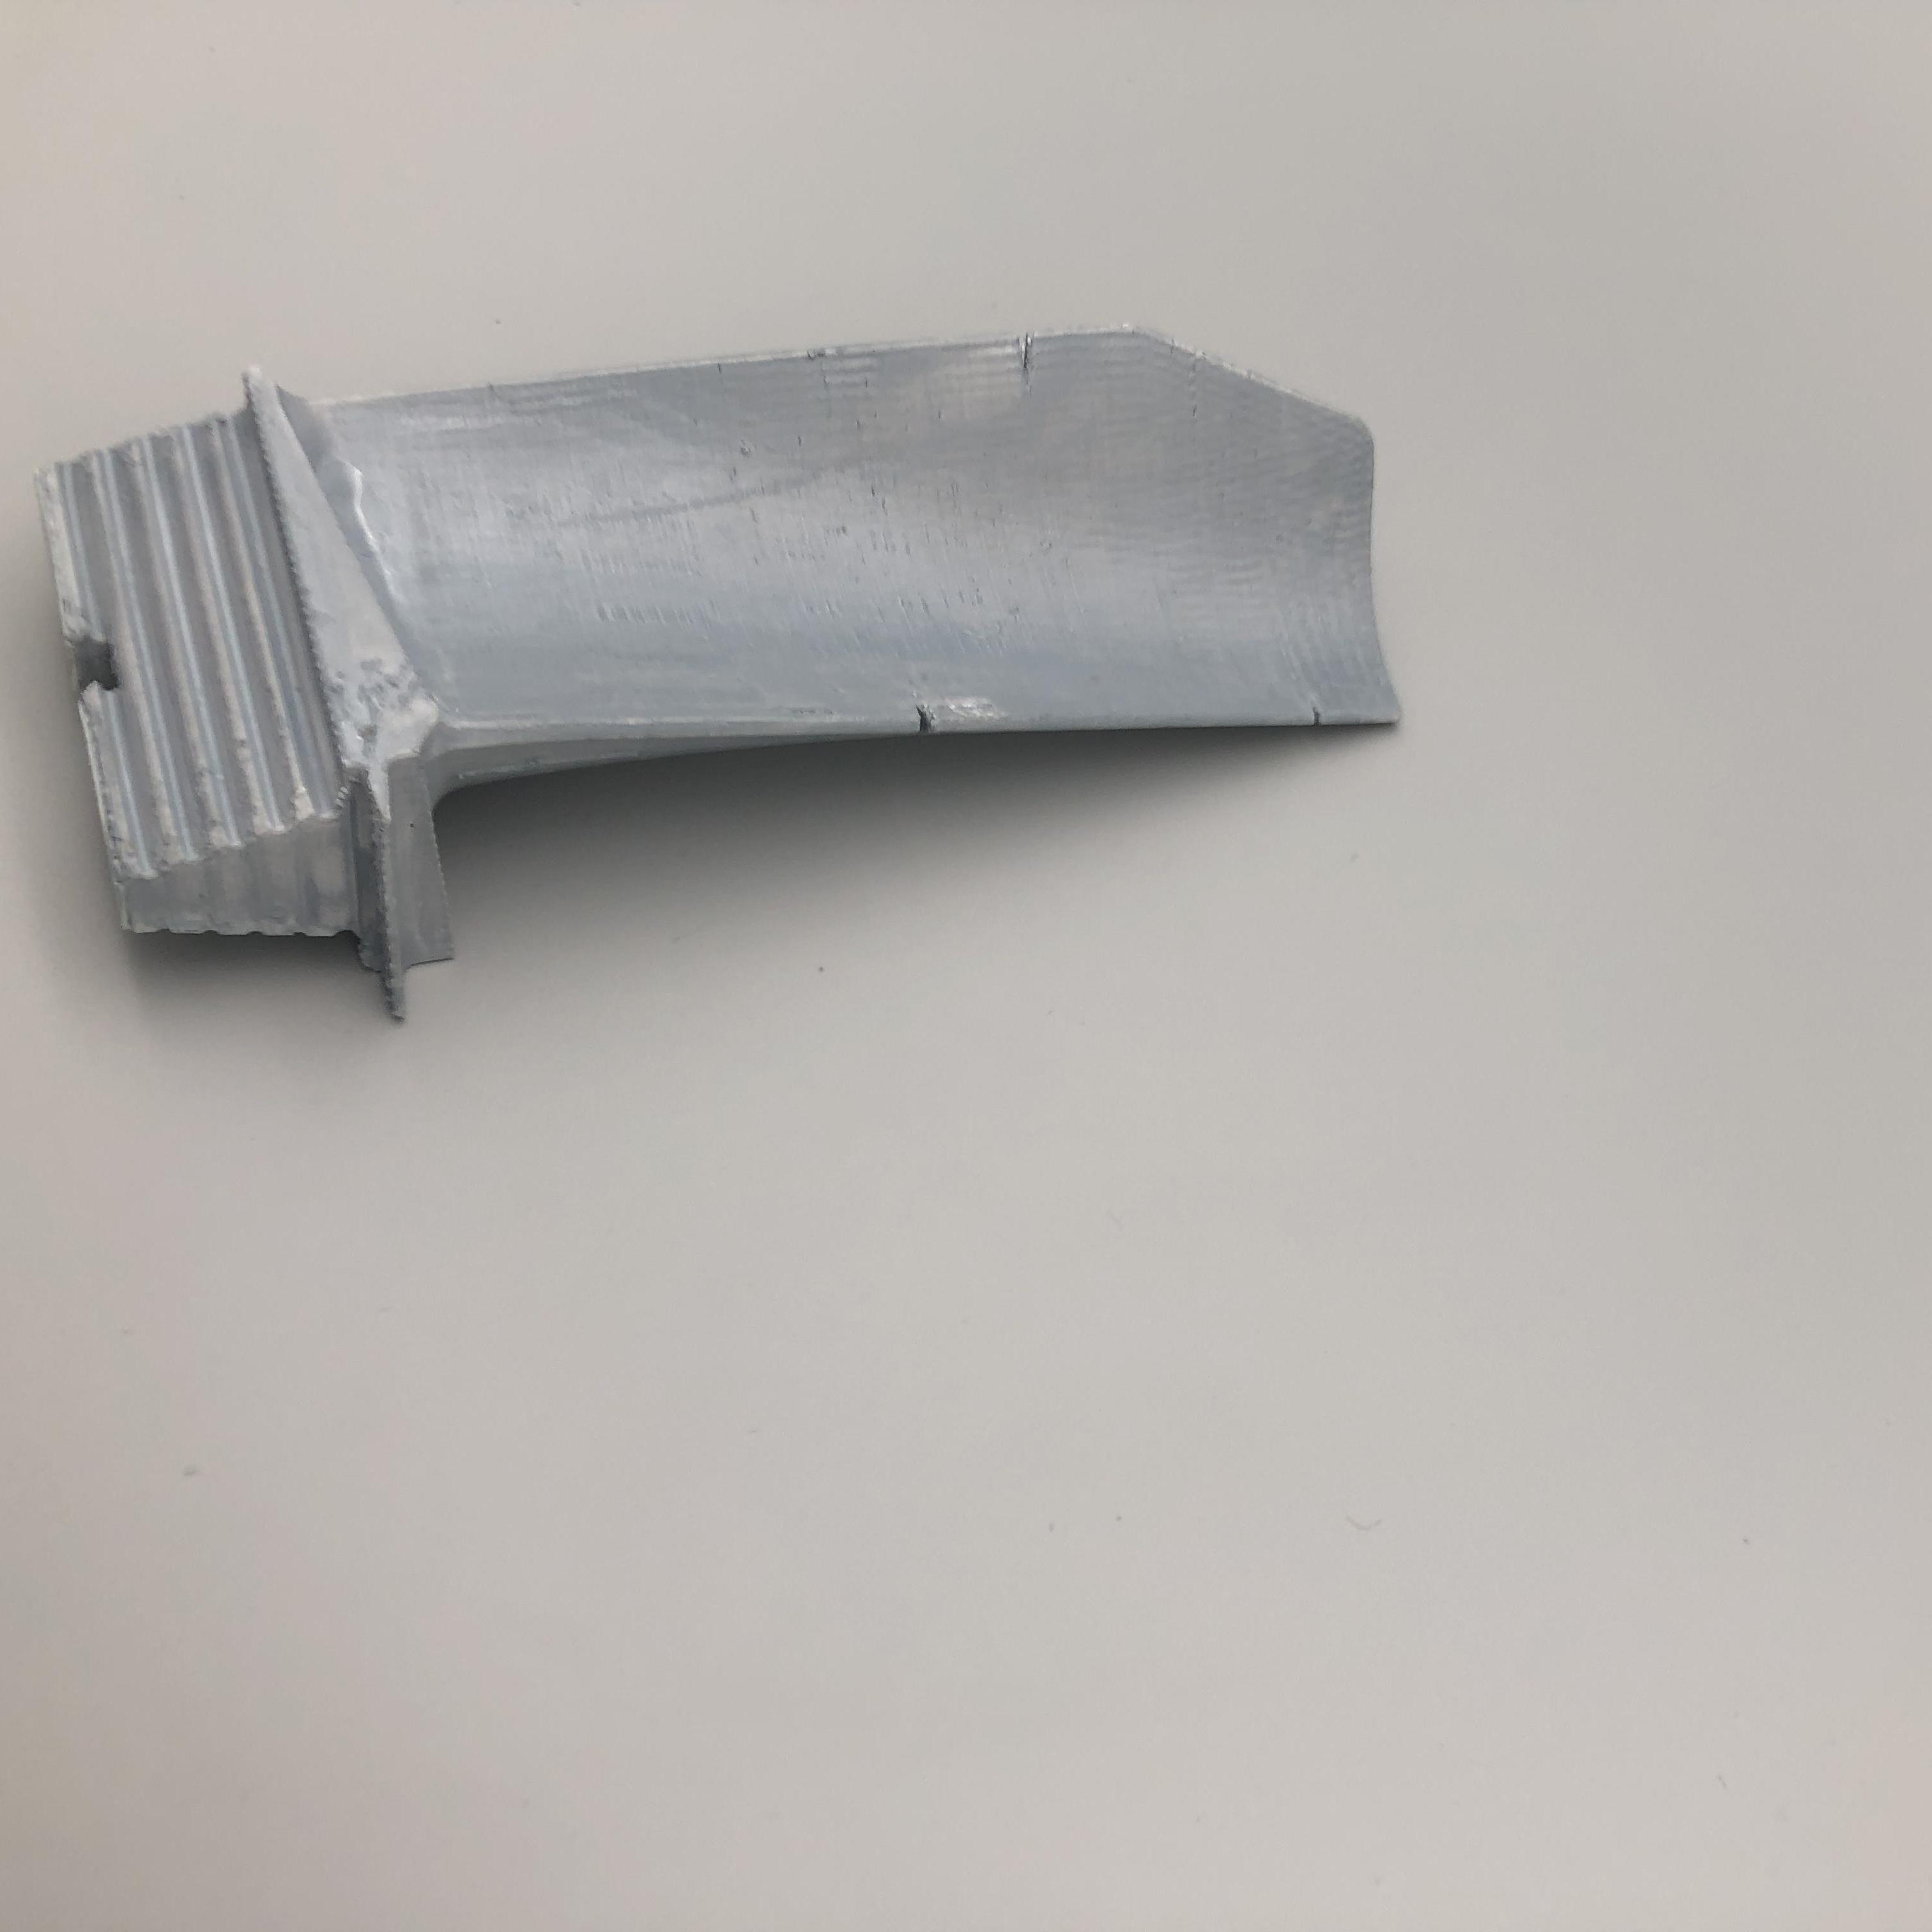groove: (901, 701, 952, 732), (1007, 341, 1044, 375), (1306, 706, 1334, 727)
